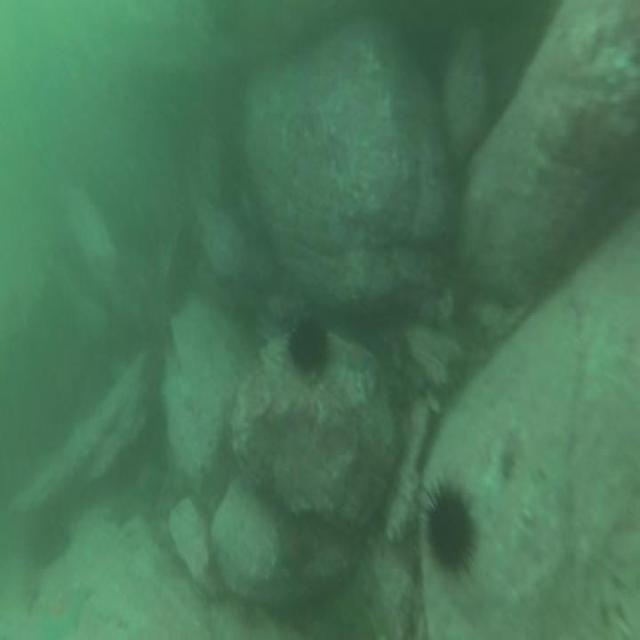echinus: (425, 479, 477, 575), (288, 312, 331, 382), (28, 509, 68, 567)
starfish: (341, 340, 376, 378)
